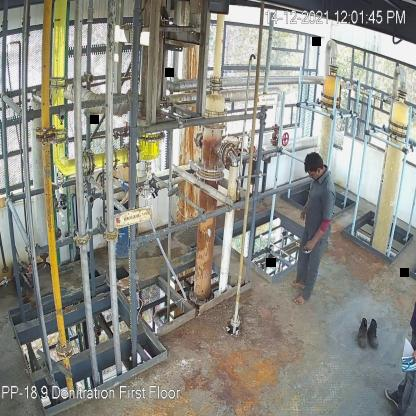no_shoes: (294, 290, 308, 306)
shoes: (356, 316, 371, 350), (368, 319, 380, 348)
